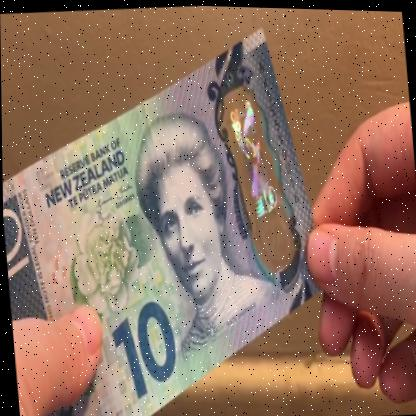10B: (226, 94, 293, 255)
